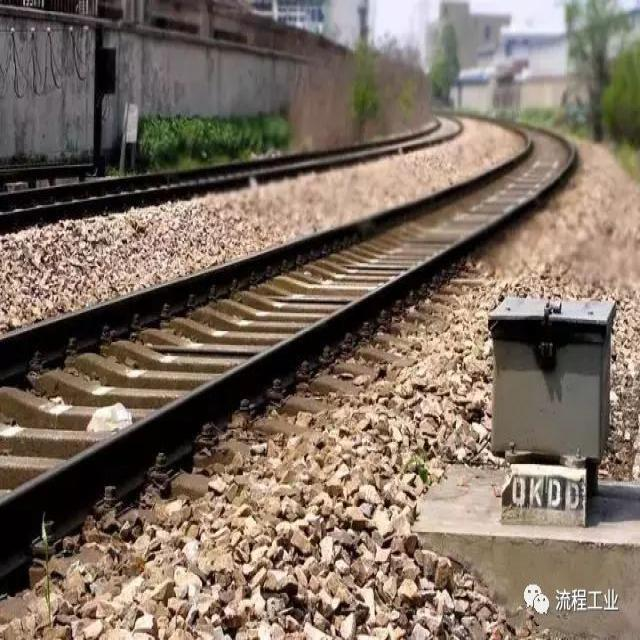Stone: (83, 401, 138, 433)
